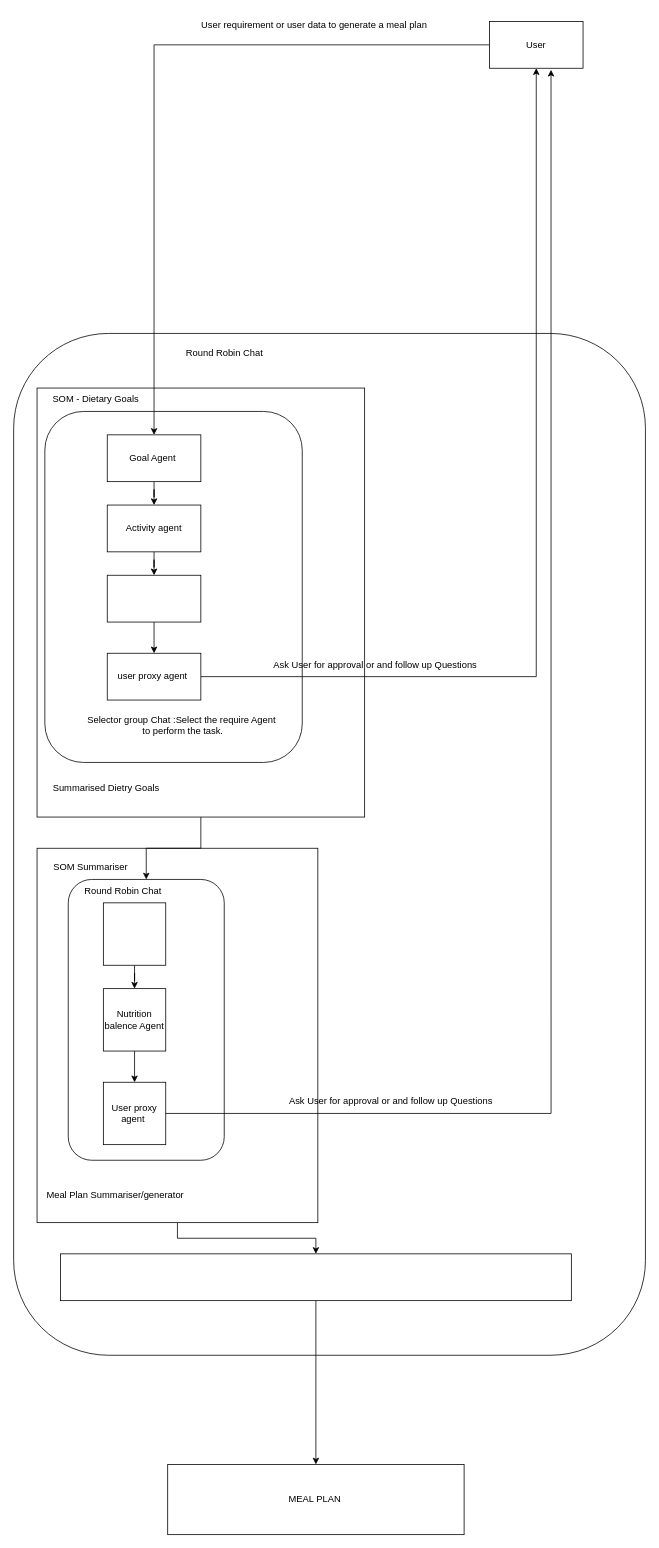
Image size: 659x1548. Some labels were removed from this diagram. The centre of each missing label's shape, as x and y in pixels:
Meal Suggestion Agent: the point at 134,933
Preference Agent: the point at 153,598
Summariser Agent: the point at 315,1277
